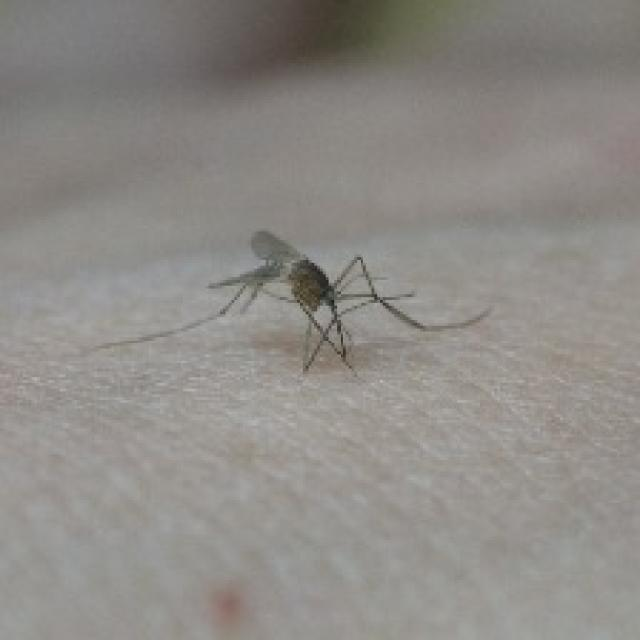culex: (86, 226, 491, 374)
